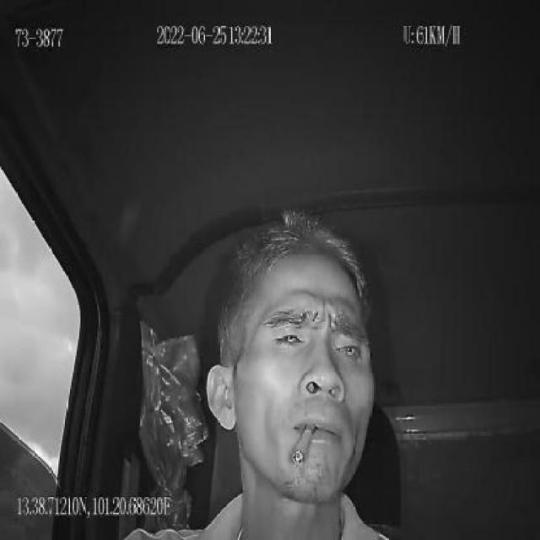smoking: (293, 421, 317, 467)
